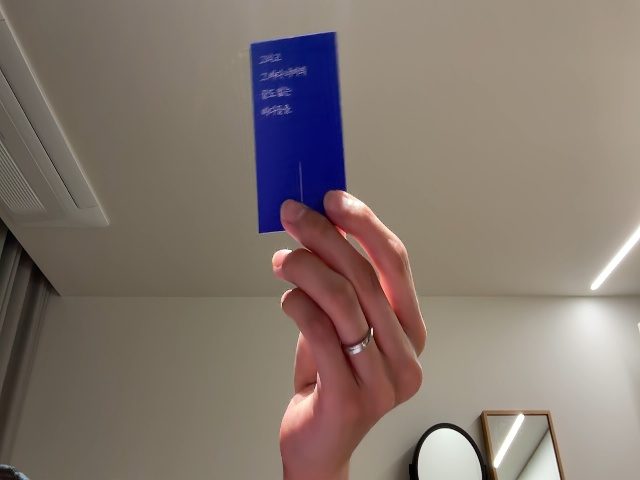card: (245, 30, 350, 236)
